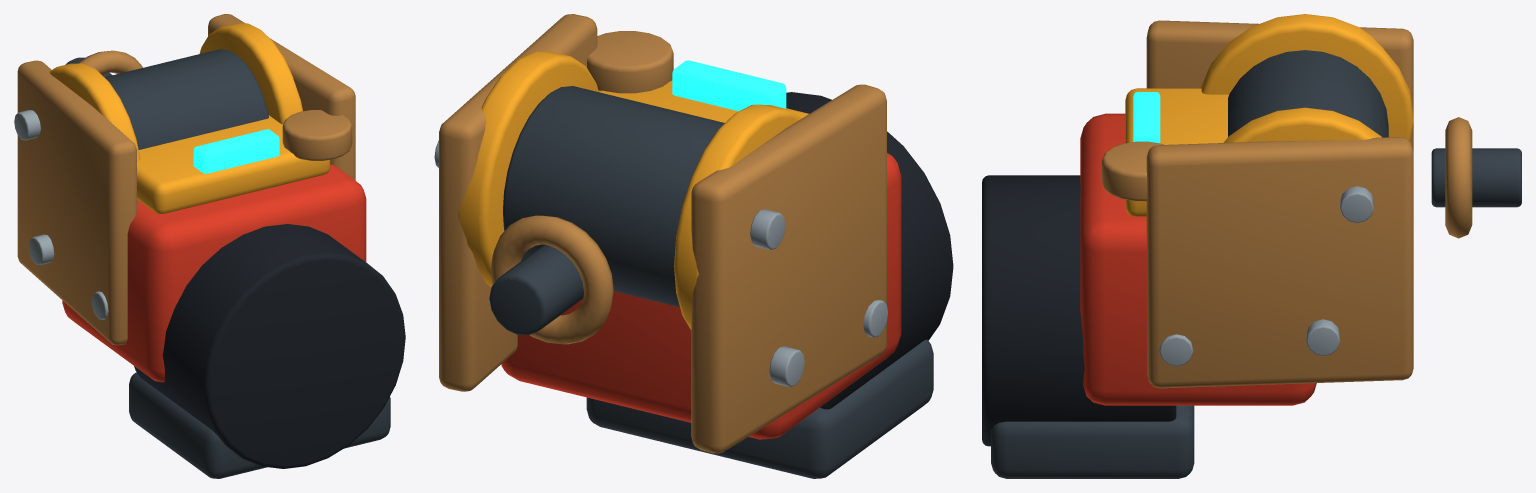
Rendered from grapple-launcher.glb.
3 renders of one model, left to right at view 1: azimuth 30°, elevation 25°; view 2: azimuth 150°, elevation 25°; view 3: azimuth 270°, elevation 25°, orthographic. The views are drawn at different scales.
Visible parts, largest first — view 1: GrappleV1_Launcher_Cuff, GrappleV1_Launcher_Cheek_L, GrappleV1_Launcher_Housing, GrappleV1_Launcher_Drum, GrappleV1_Launcher_TopPlate, GrappleV1_Launcher_Underbrace, GrappleV1_Launcher_DrumFlange_R, GrappleV1_Launcher_Cheek_R, GrappleV1_Launcher_AdjustDial, GrappleV1_Launcher_DrumFlange_L, GrappleV1_Launcher_StatusLamp, GrappleV1_Launcher_CableGuide (+2 smaller); view 2: GrappleV1_Launcher_Cheek_L, GrappleV1_Launcher_Drum, GrappleV1_Launcher_Housing, GrappleV1_Launcher_Cheek_R, GrappleV1_Launcher_Underbrace, GrappleV1_Launcher_DrumFlange_R, GrappleV1_Launcher_Cuff, GrappleV1_Launcher_CableGuide, GrappleV1_Launcher_DrumFlange_L, GrappleV1_Launcher_Nozzle, GrappleV1_Launcher_AdjustDial, GrappleV1_Launcher_StatusLamp (+4 smaller); view 3: GrappleV1_Launcher_Cheek_R, GrappleV1_Launcher_Cuff, GrappleV1_Launcher_Housing, GrappleV1_Launcher_Underbrace, GrappleV1_Launcher_DrumFlange_L, GrappleV1_Launcher_Drum, GrappleV1_Launcher_Cheek_L, GrappleV1_Launcher_TopPlate, GrappleV1_Launcher_Nozzle, GrappleV1_Launcher_DrumFlange_R, GrappleV1_Launcher_CableGuide, GrappleV1_Launcher_AdjustDial (+4 smaller).
Part boxes in pixels (<box>): GrappleV1_Launcher_Cuff: <box>134,224,405,468</box>; GrappleV1_Launcher_Cheek_L: <box>17,60,136,345</box>; GrappleV1_Launcher_Housing: <box>62,164,366,382</box>; GrappleV1_Launcher_Drum: <box>105,49,268,149</box>; GrappleV1_Launcher_TopPlate: <box>137,115,330,213</box>; GrappleV1_Launcher_Underbrace: <box>129,372,390,478</box>; GrappleV1_Launcher_DrumFlange_R: <box>199,23,302,124</box>; GrappleV1_Launcher_Cheek_R: <box>208,14,355,180</box>; GrappleV1_Launcher_AdjustDial: <box>282,110,352,160</box>; GrappleV1_Launcher_DrumFlange_L: <box>49,63,140,161</box>; GrappleV1_Launcher_StatusLamp: <box>193,129,279,173</box>; GrappleV1_Launcher_CableGuide: <box>77,50,142,74</box>; GrappleV1_Launcher_Cheek_L: <box>691,84,886,453</box>; GrappleV1_Launcher_Drum: <box>503,86,724,307</box>; GrappleV1_Launcher_Housing: <box>501,153,901,439</box>; GrappleV1_Launcher_Cheek_R: <box>439,14,597,391</box>; GrappleV1_Launcher_Underbrace: <box>586,339,933,478</box>; GrappleV1_Launcher_DrumFlange_R: <box>458,51,598,287</box>; GrappleV1_Launcher_Cuff: <box>786,92,953,409</box>; GrappleV1_Launcher_CableGuide: <box>490,215,613,344</box>; GrappleV1_Launcher_DrumFlange_L: <box>674,104,801,329</box>; GrappleV1_Launcher_Nozzle: <box>489,244,583,335</box>; GrappleV1_Launcher_AdjustDial: <box>587,31,673,93</box>; GrappleV1_Launcher_StatusLamp: <box>672,60,786,111</box>; GrappleV1_Launcher_Cheek_R: <box>1146,137,1413,388</box>; GrappleV1_Launcher_Cuff: <box>982,175,1176,446</box>; GrappleV1_Launcher_Housing: <box>1080,113,1316,405</box>; GrappleV1_Launcher_Underbrace: <box>991,405,1194,478</box>; GrappleV1_Launcher_DrumFlange_L: <box>1200,14,1413,141</box>; GrappleV1_Launcher_Drum: <box>1228,50,1388,137</box>; GrappleV1_Launcher_Cheek_L: <box>1146,20,1413,152</box>; GrappleV1_Launcher_TopPlate: <box>1125,88,1228,216</box>; GrappleV1_Launcher_Nozzle: <box>1431,148,1521,207</box>; GrappleV1_Launcher_DrumFlange_R: <box>1223,107,1381,142</box>; GrappleV1_Launcher_CableGuide: <box>1445,117,1472,238</box>; GrappleV1_Launcher_AdjustDial: <box>1101,141,1164,201</box>.
Bounding box in the file's own units: 0.15 × 0.18 × 0.239.
